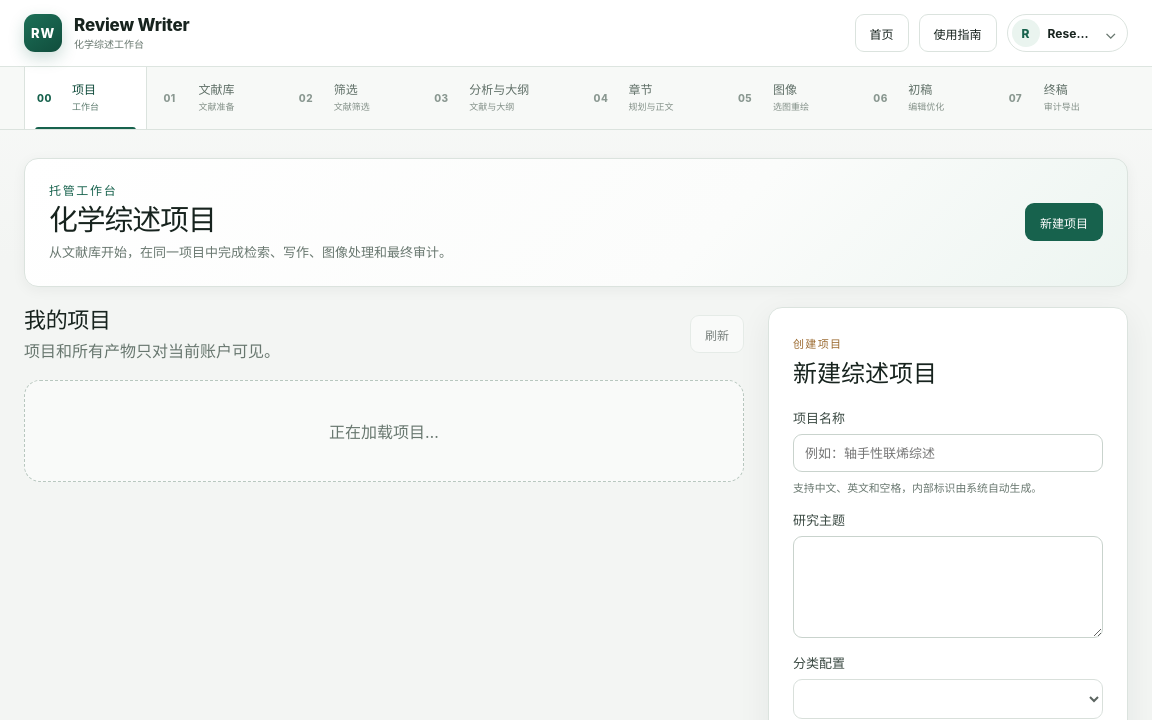
Scenario: public and authenticated routing › opens a newly created project instead of retaining the previous project context
Type "轴手性联烯 综述" into the field labelled "项目名称 支持中文、英文和空格，内部标识由系统自动生成。" at [948, 453], box [793,434,1103,472]
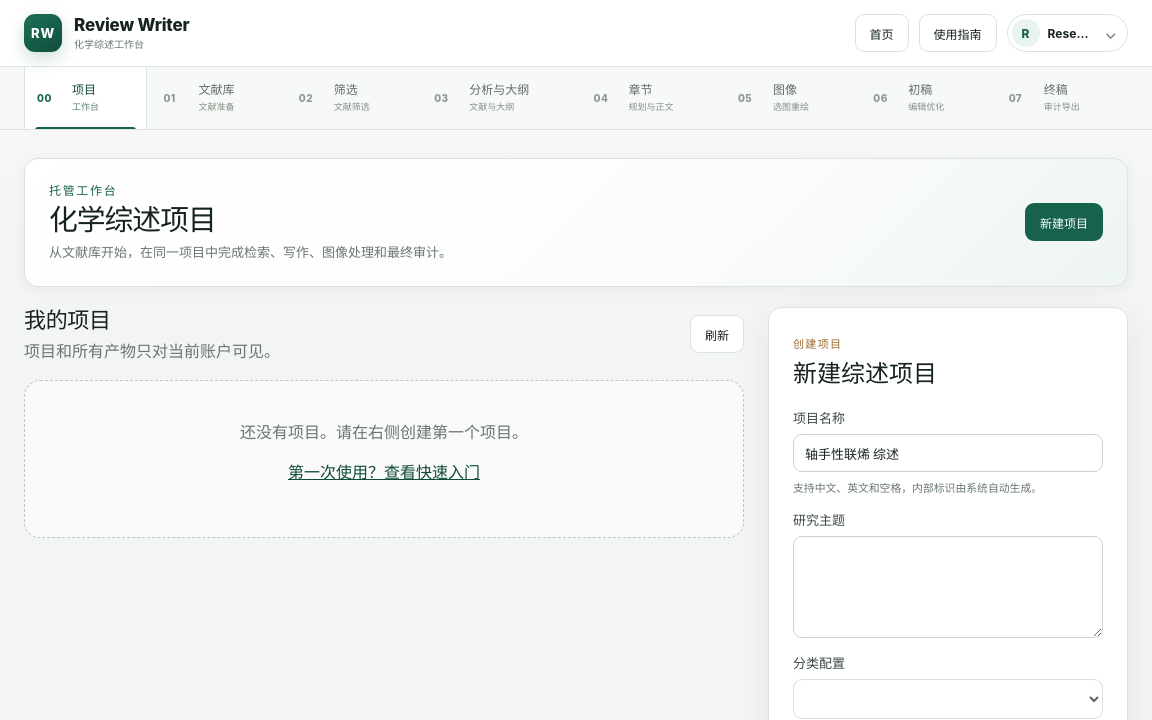
Type "A new review topic" into the text box labelled "研究主题" at [948, 587], box [793,536,1103,638]
(page scrolled)
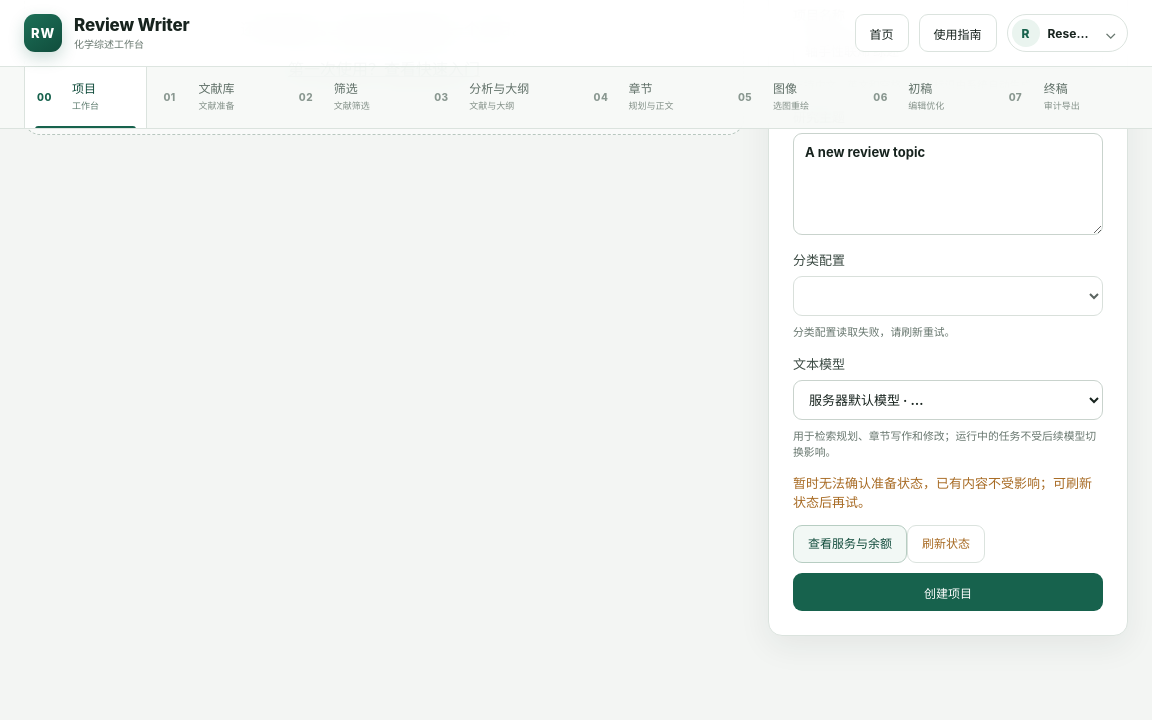
Click the button "创建项目" at [948, 592], box [793,573,1103,611]
(page scrolled)
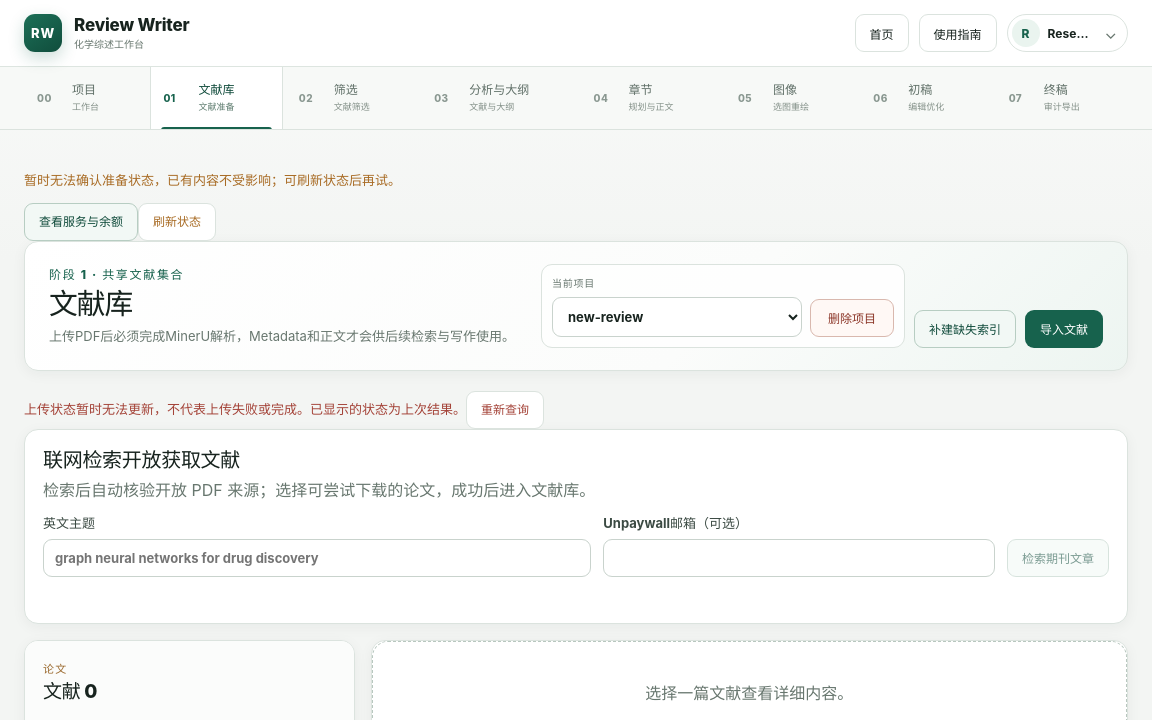
Check: the heading "文献库" is shown, box [49,286,132,321]
Check: the dropdown labelled "当前项目" shows "new-review", box [552,297,802,337]
